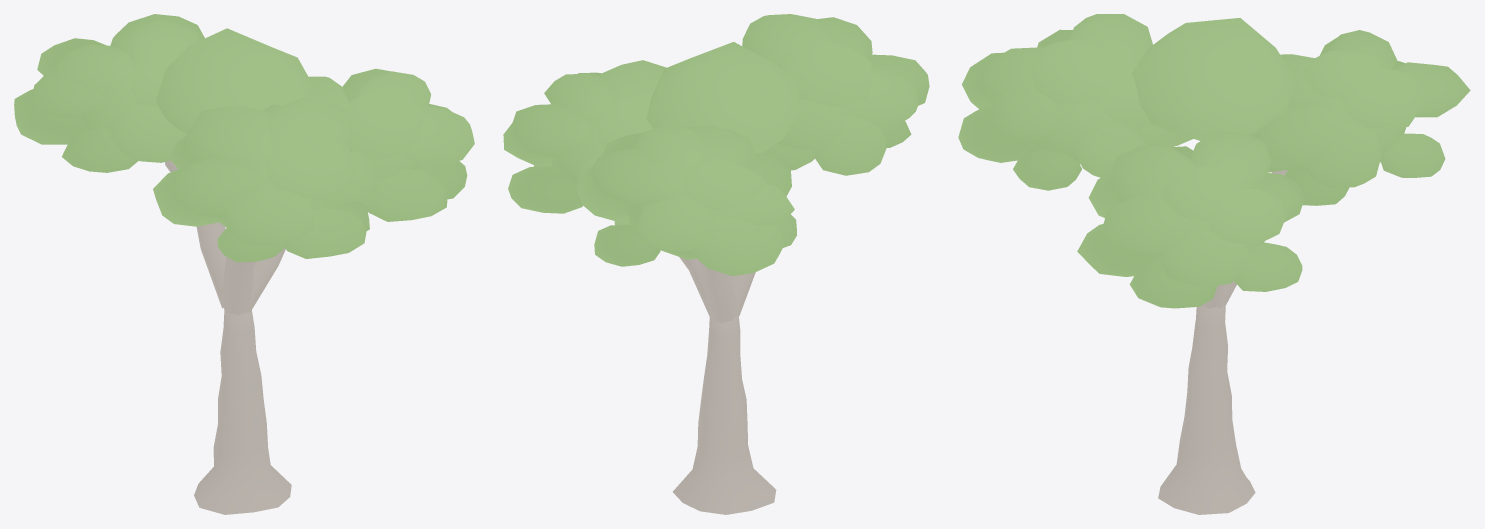
File: Blender_LakeCottonwood_1.glb
The picture shows the model from 3 angles, left to right: view 1: azimuth 30°, elevation 25°; view 2: azimuth 150°, elevation 25°; view 3: azimuth 270°, elevation 25°; orthographic projection. The views are drawn at different scales.
Visible parts, largest first — view 1: Blender_LakeCottonwood_1; view 2: Blender_LakeCottonwood_1; view 3: Blender_LakeCottonwood_1.
Part boxes in pixels (box(x1,y1,x2,y2)): Blender_LakeCottonwood_1: box(14, 14, 474, 514); Blender_LakeCottonwood_1: box(503, 14, 929, 514); Blender_LakeCottonwood_1: box(958, 14, 1470, 514).
Bounding box in the file's own units: 18.8 × 22.48 × 22.7.
